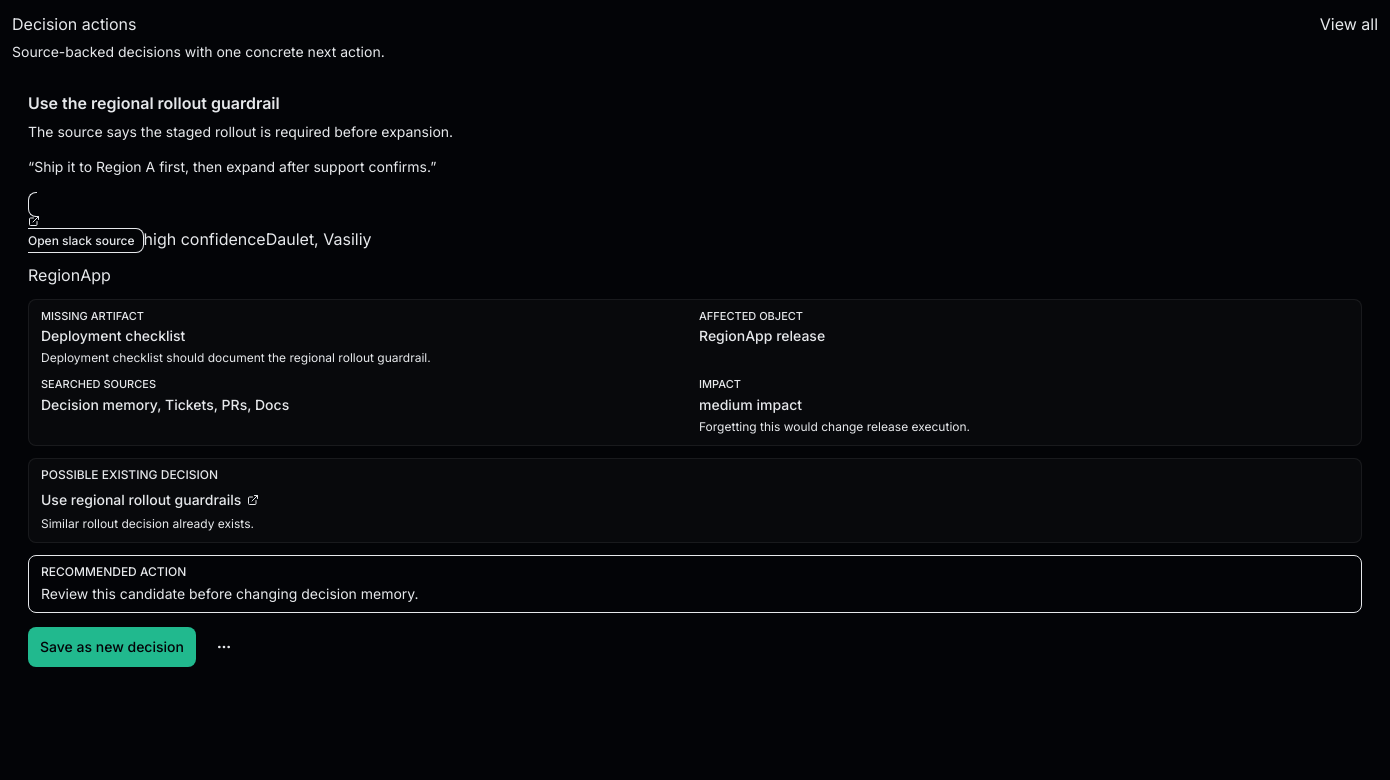
Test: NeedsReviewSuggestions › keeps the row visible and shows inline error copy after action failure
Click the button "Save as new decision" at (112, 647), box [28,627,196,667]
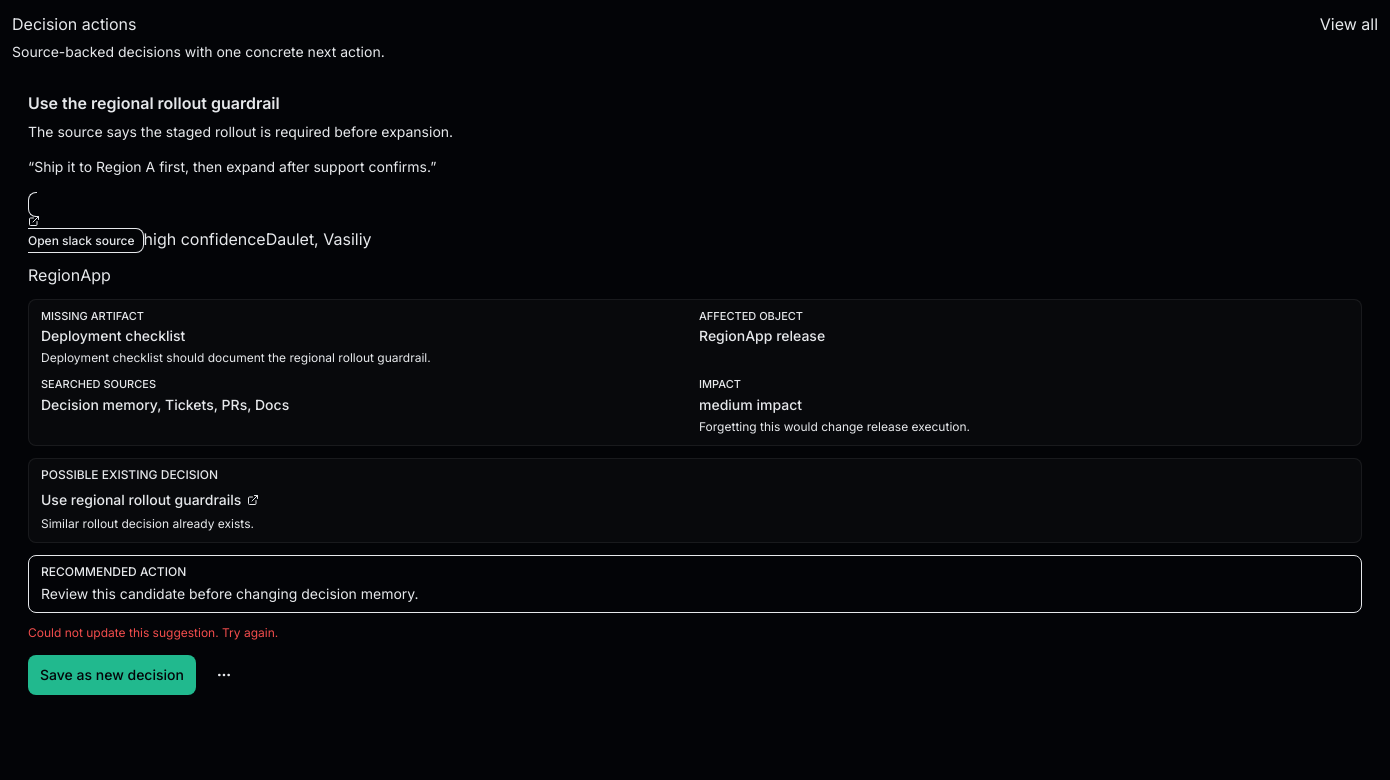
expect the heading "Use the regional rollout guardrail" is shown: met, box [28,93,280,113]
expect the text "Could not update this suggestion. Try again." is shown: met, box [28,625,278,640]
